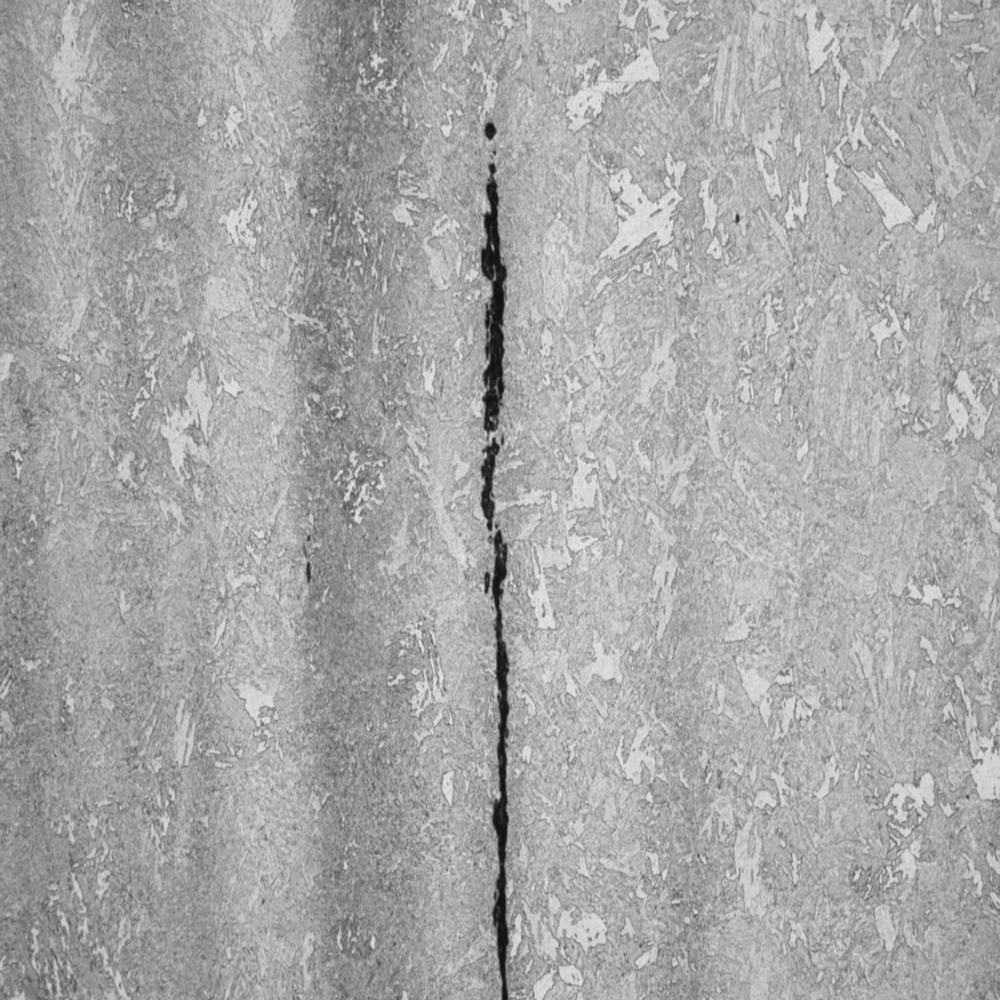crack: (471, 107, 530, 991)
